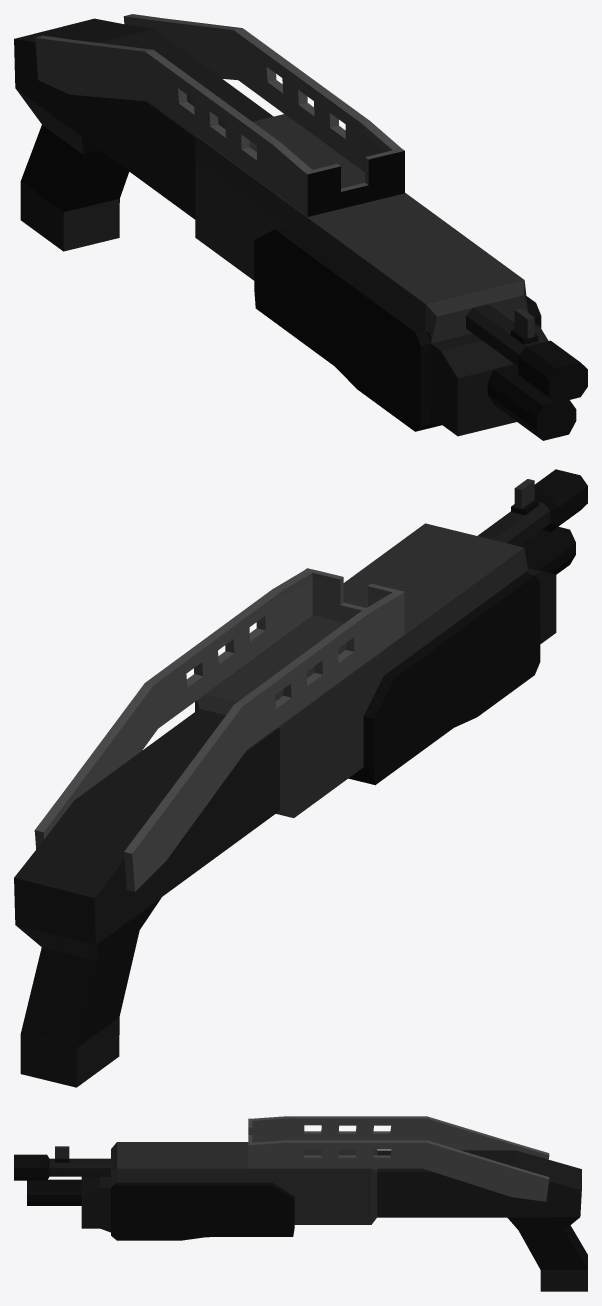
The model's file is shotgun - Copia.obj.
The picture shows the model from 3 angles, top to bottom: view 1: azimuth 30°, elevation 25°; view 2: azimuth 150°, elevation 25°; view 3: azimuth 270°, elevation 25°; orthographic projection. The views are drawn at different scales.
Visible parts, largest first — view 1: Cube; view 2: Cube; view 3: Cube.
Boxes of the visible parts, left/top/right/bottom form: Cube: left=14, top=14, right=587, bottom=440; Cube: left=14, top=469, right=587, bottom=1087; Cube: left=14, top=1116, right=587, bottom=1291.
Bounding box in the file's own units: 1.29 × 2.86 × 9.62.
